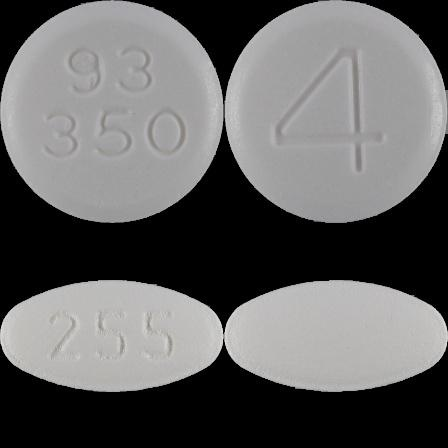69189-0420: (0, 0, 224, 224)
